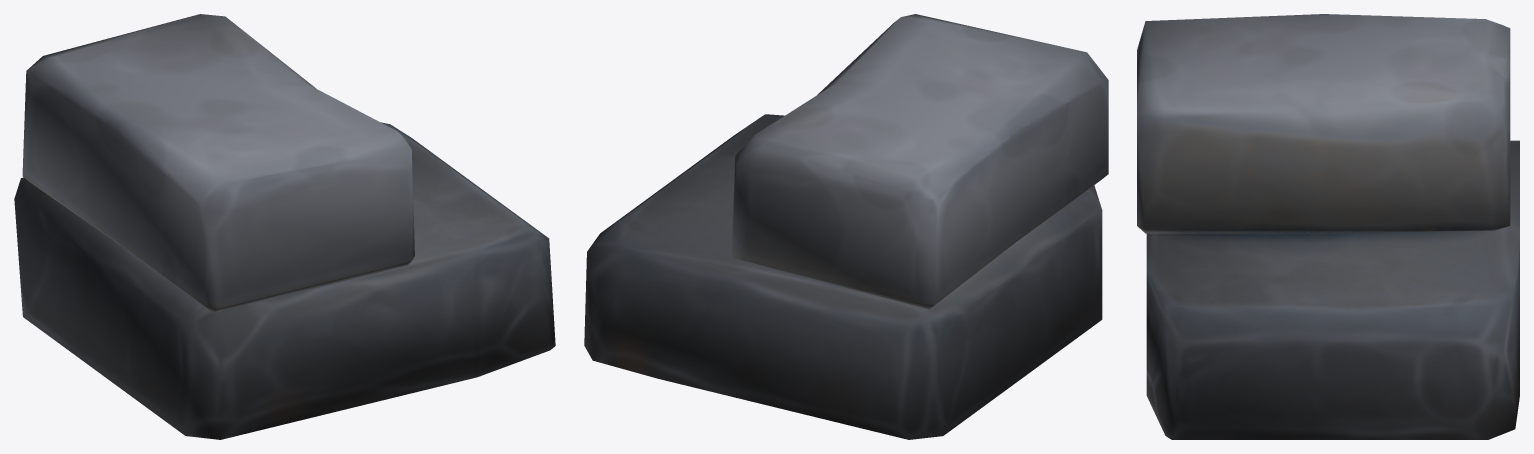
The model's file is StoneFloor_Stairs.fbx.
The picture shows the model from 3 angles, left to right: view 1: azimuth 30°, elevation 25°; view 2: azimuth 150°, elevation 25°; view 3: azimuth 270°, elevation 25°; orthographic projection. The views are drawn at different scales.
Parts seen in each view (by area): view 1: U_StoneFloor_Stairs; view 2: U_StoneFloor_Stairs; view 3: U_StoneFloor_Stairs.
Part boxes in pixels (box(x1,y1,x2,y2)): U_StoneFloor_Stairs: box(14, 14, 555, 439); U_StoneFloor_Stairs: box(584, 14, 1108, 439); U_StoneFloor_Stairs: box(1137, 14, 1519, 439).
Bounding box in the file's own units: 99.67 × 65.96 × 90.14.
1 material, 1 textured.
